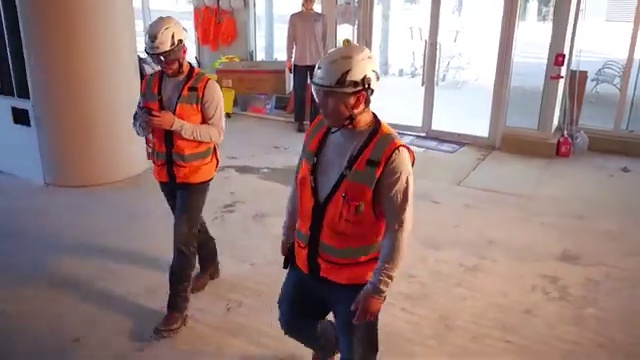helmet: (308, 41, 382, 96), (141, 11, 193, 50)
jacket: (284, 112, 415, 303), (133, 65, 229, 178)
